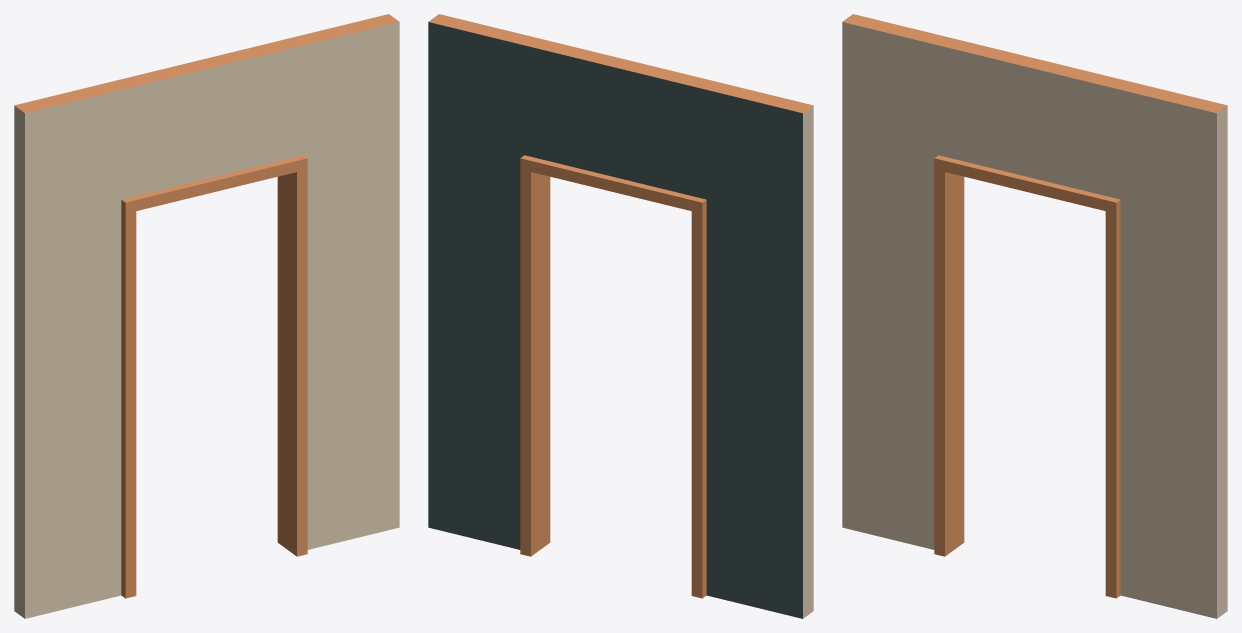
The model's file is wallDoorway.glb.
3 renders of one model, left to right at view 1: azimuth 30°, elevation 25°; view 2: azimuth 150°, elevation 25°; view 3: azimuth 330°, elevation 25°, orthographic.
Visible parts, largest first — view 1: wallDoorway; view 2: wallDoorway; view 3: wallDoorway.
Part boxes in pixels (x1,y1,x2,y2): wallDoorway: (14, 14, 399, 618); wallDoorway: (428, 14, 813, 618); wallDoorway: (842, 14, 1227, 618).
Size of the model in its own units: 2 by 2.58 by 0.1782.
